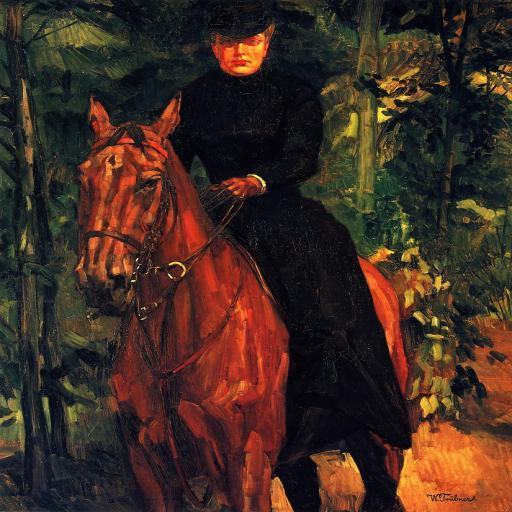horse: (68, 90, 410, 512)
